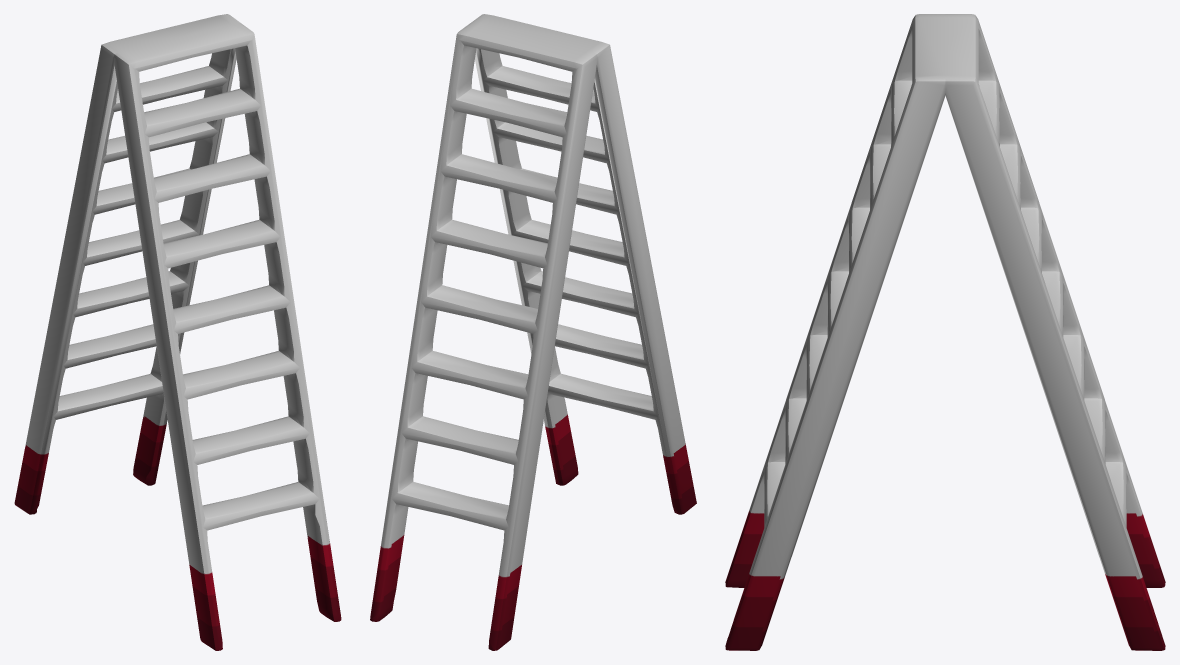
File: 사다리 1.fbx
3 renders of one model, left to right at view 1: azimuth 30°, elevation 25°; view 2: azimuth 150°, elevation 25°; view 3: azimuth 270°, elevation 25°, orthographic. The views are drawn at different scales.
Parts seen in each view (by area): view 1: Box001; view 2: Box001; view 3: Box001.
Part boxes in pixels (left/top/right/bottom): Box001: left=14, top=14, right=341, bottom=650; Box001: left=370, top=14, right=696, bottom=650; Box001: left=725, top=14, right=1165, bottom=650.
Size of the model in its own units: 30.41 by 119 by 82.62.
1 material, 1 textured.
